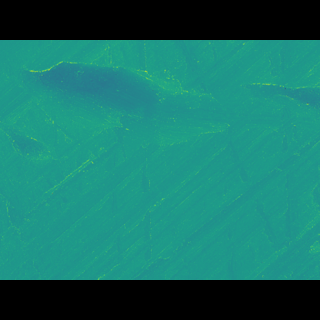Loch: (4, 79, 315, 160)
